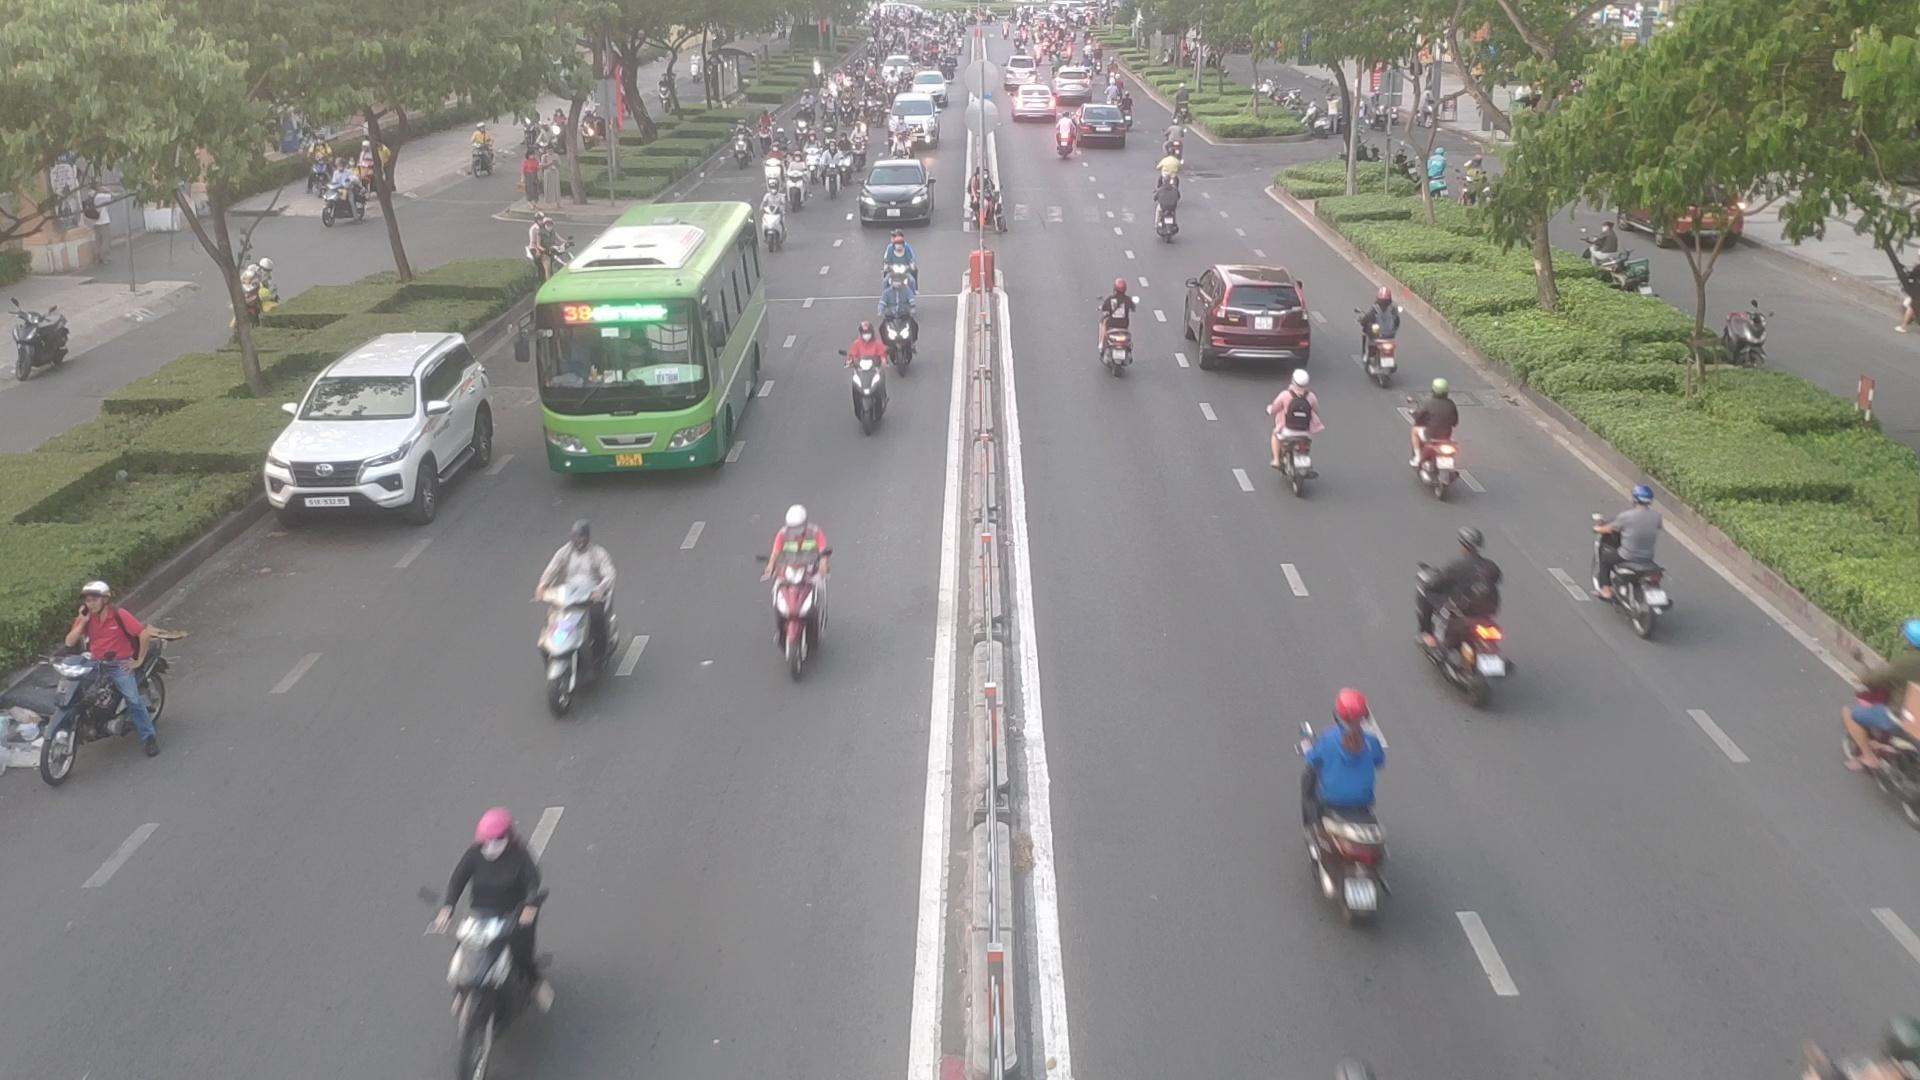car: (531, 223, 777, 484), (266, 331, 512, 526), (1187, 268, 1319, 375), (857, 160, 942, 229)
motorbike: (419, 815, 545, 1075), (21, 585, 167, 778), (1287, 704, 1399, 920), (531, 534, 630, 709), (1418, 535, 1522, 698), (756, 514, 843, 673), (1840, 661, 1920, 822), (1593, 491, 1677, 629), (837, 302, 914, 433), (1407, 375, 1472, 491), (1261, 380, 1323, 489), (1349, 295, 1406, 385), (1091, 281, 1139, 375), (1142, 167, 1180, 243), (781, 157, 814, 211), (1052, 119, 1083, 160)
